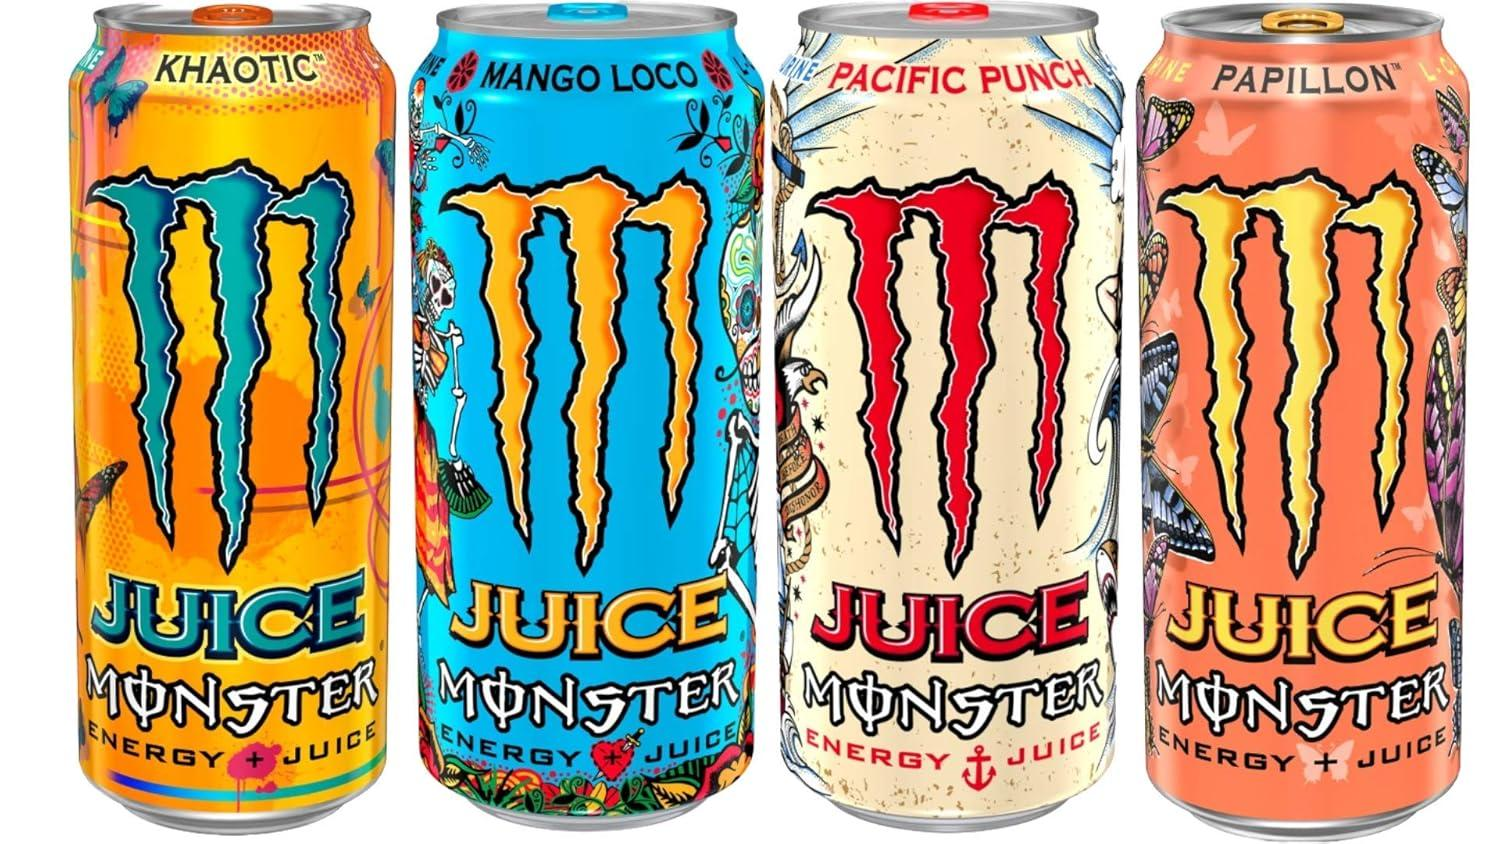lata: (411, 2, 762, 824), (63, 1, 397, 828), (1137, 4, 1469, 834)
